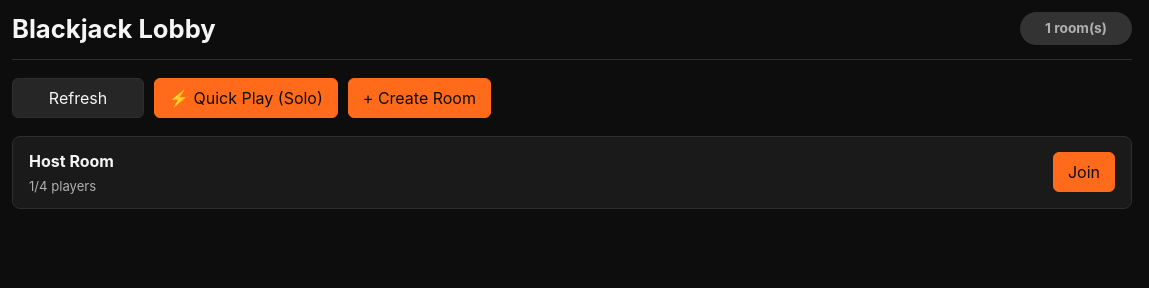
Test case: Area 1 - network failure during mutating actions › join failure: error surfaced, busy cleared, join button usable again
The image size is (1149, 288).
Click the button "Join": x=1084, y=172 [1053,152,1115,192]
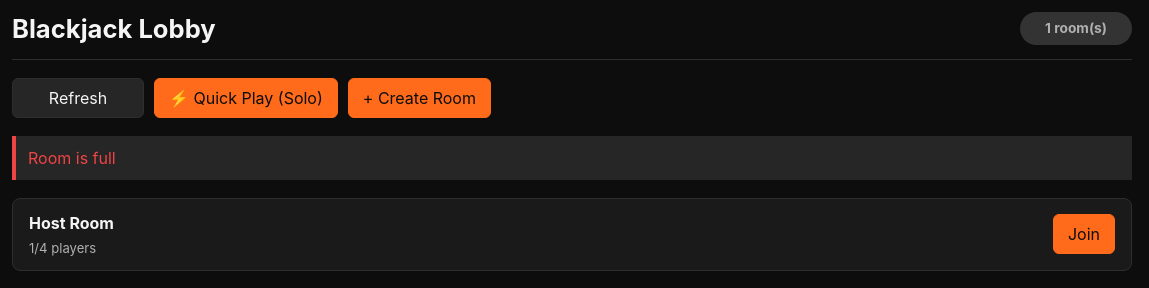
Expected: the button "Join" is enabled, [1053,214,1115,254]
Expected: the message "Room is full" is shown, [12,136,1132,180]
Expected: the message reads "Room is full", [28,148,116,168]
